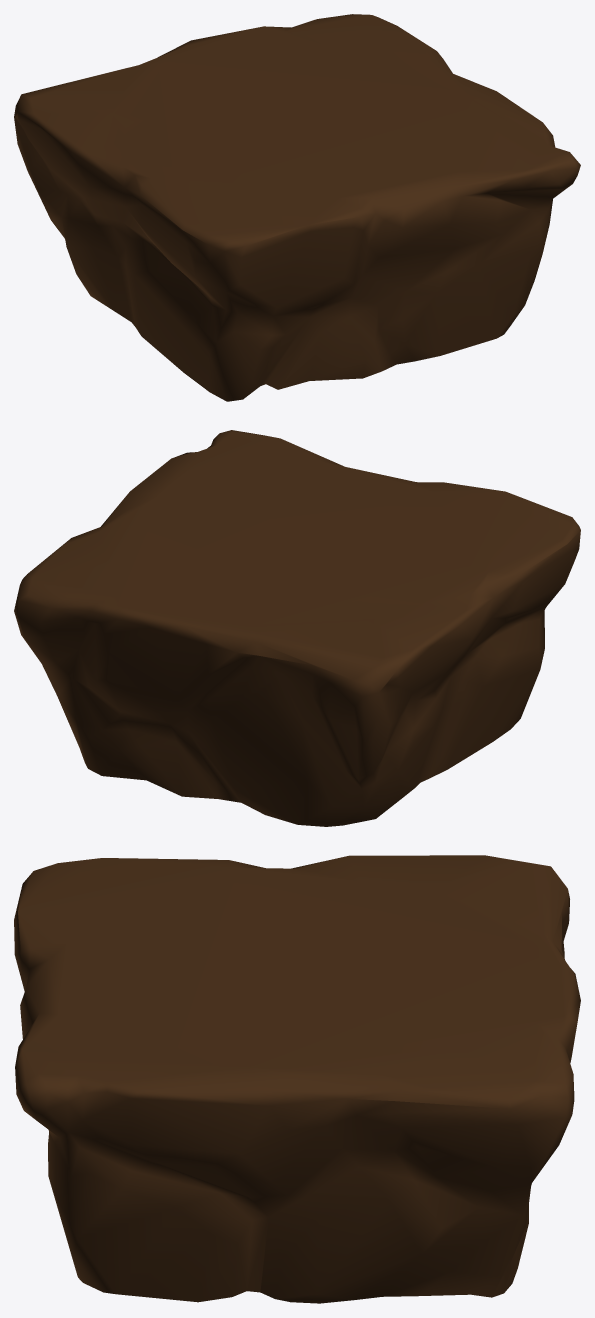
Rendered from Tiles16.fbx.
3 views of the same model, one above another, from view 1: azimuth 30°, elevation 25°; view 2: azimuth 150°, elevation 25°; view 3: azimuth 270°, elevation 25° (orthographic). The views are drawn at different scales.
Visible parts, largest first — view 1: Retopo_立方体.003; view 2: Retopo_立方体.003; view 3: Retopo_立方体.003.
Boxes of the visible parts, x1,y1,x2,y2 form: Retopo_立方体.003: (14, 14, 580, 401); Retopo_立方体.003: (14, 430, 580, 826); Retopo_立方体.003: (14, 855, 580, 1303).
Bounding box in the file's own units: 1653 × 796 × 1664.
